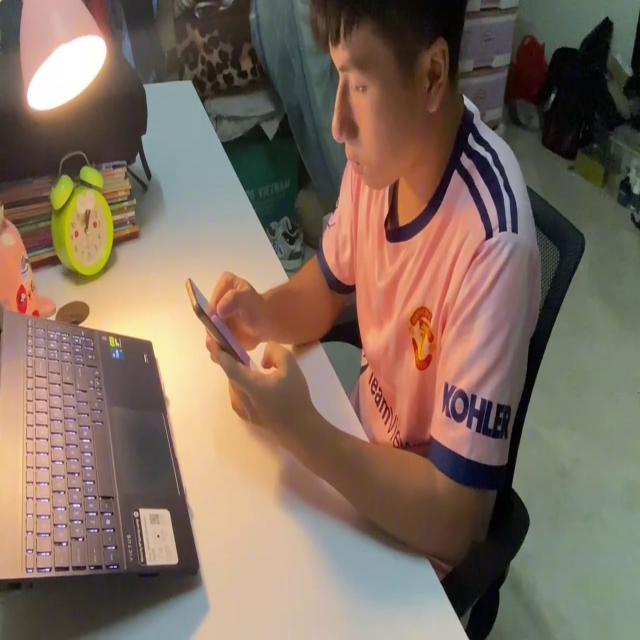laptop: (1, 305, 202, 584)
phone: (187, 272, 266, 372)
student: (208, 0, 542, 579)
